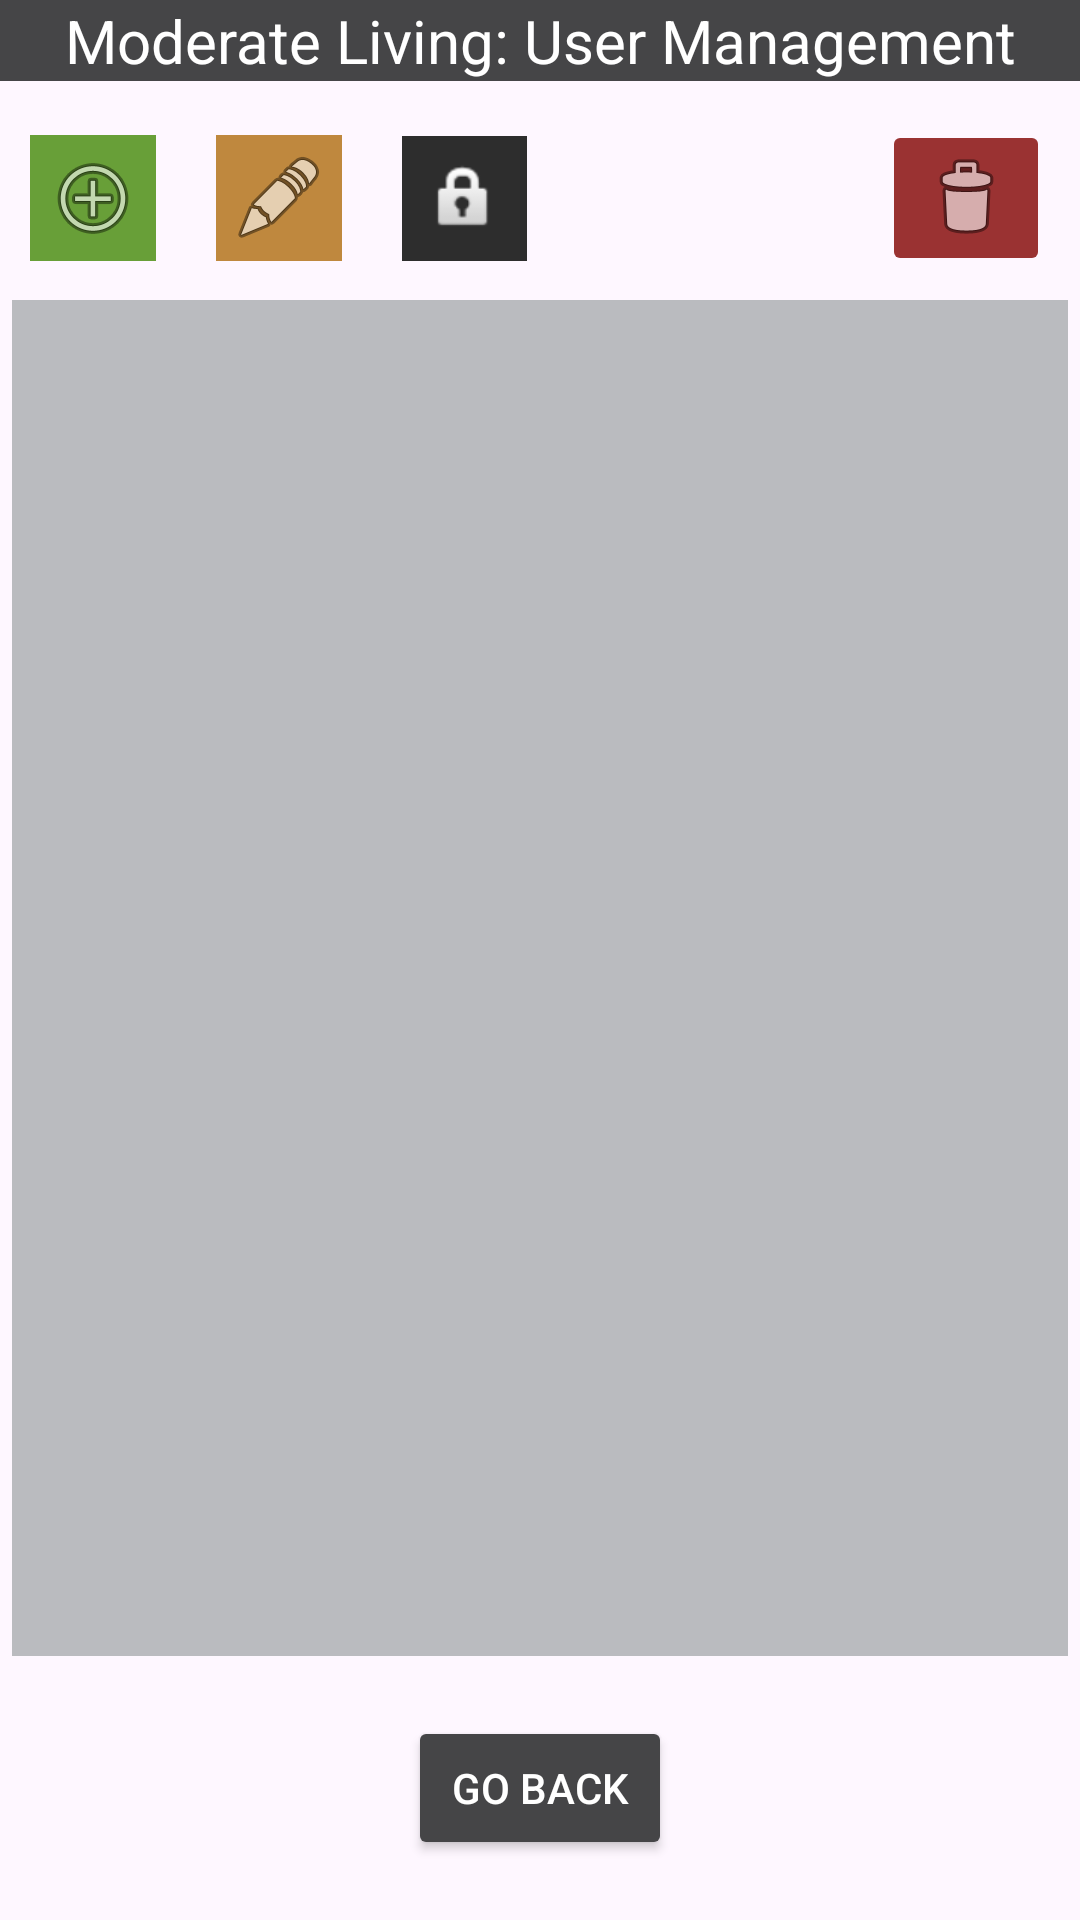

Named icons in this screenshot (1080 × 1920) and their centers, (x=x, y=y):
add: (x=93, y=198)
delete: (x=966, y=198)
edit: (x=279, y=198)
lock idle: (x=464, y=198)
